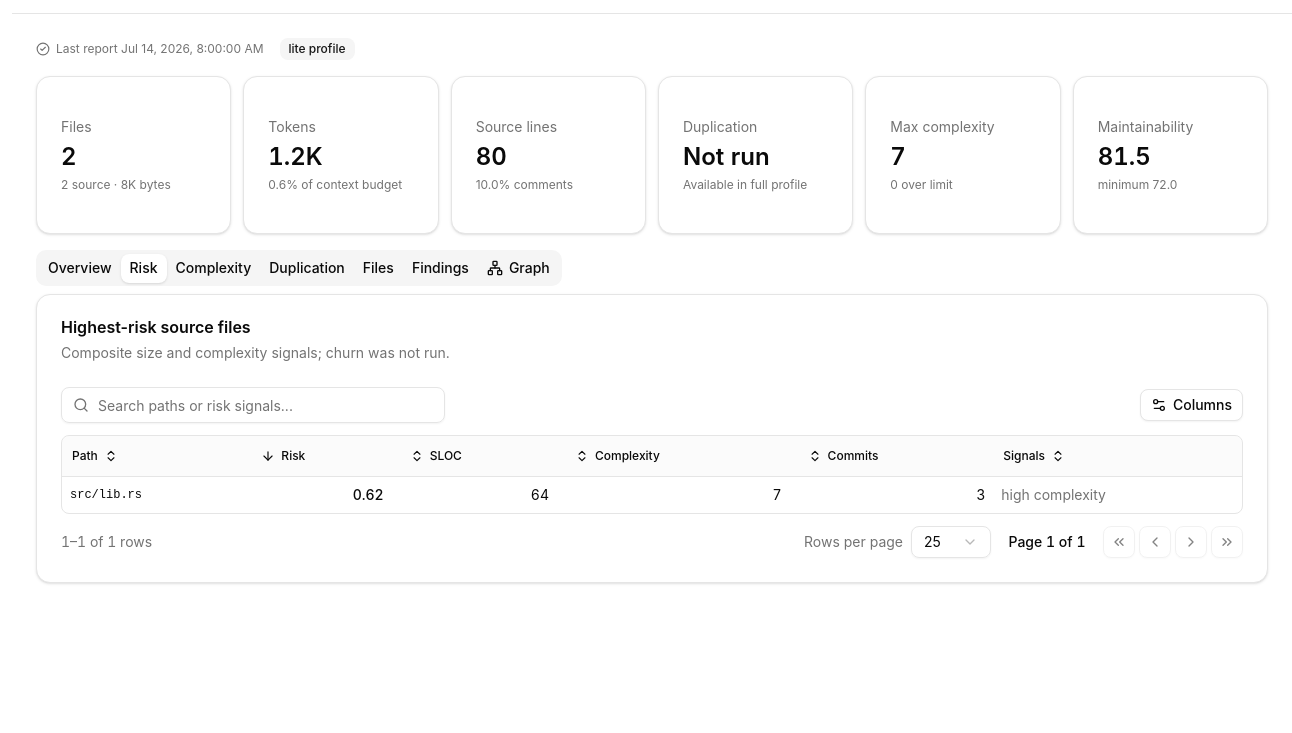
dashboard routing › opens a bookmarked metric and updates the URL when tabs change
expect the text "Highest-risk source files" is shown: met, box left=61, top=317, right=251, bottom=337
Click the tab "Files" at (378, 268), box left=354, top=254, right=403, bottom=282
(page scrolled)
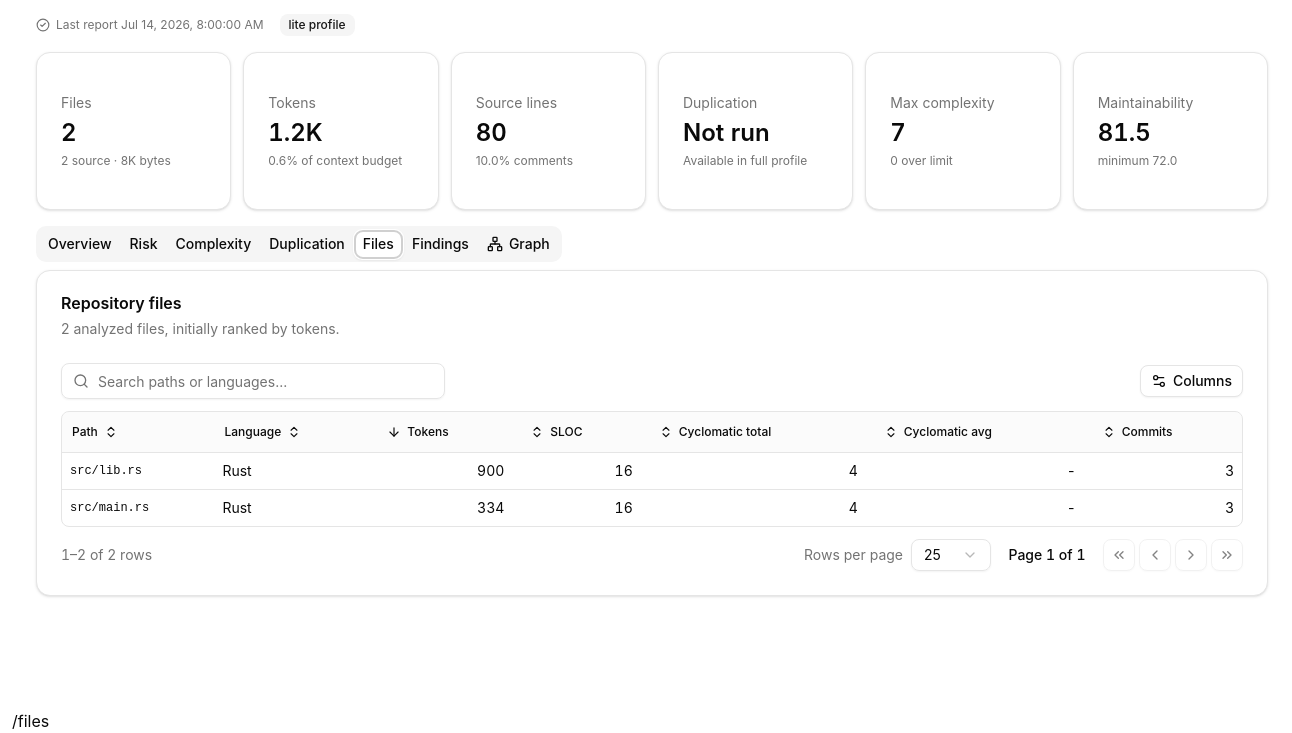
expect the text "Repository files" is shown: met, box left=61, top=293, right=182, bottom=313
expect the text named "Current route" reads "/files": met, box left=12, top=711, right=49, bottom=731
